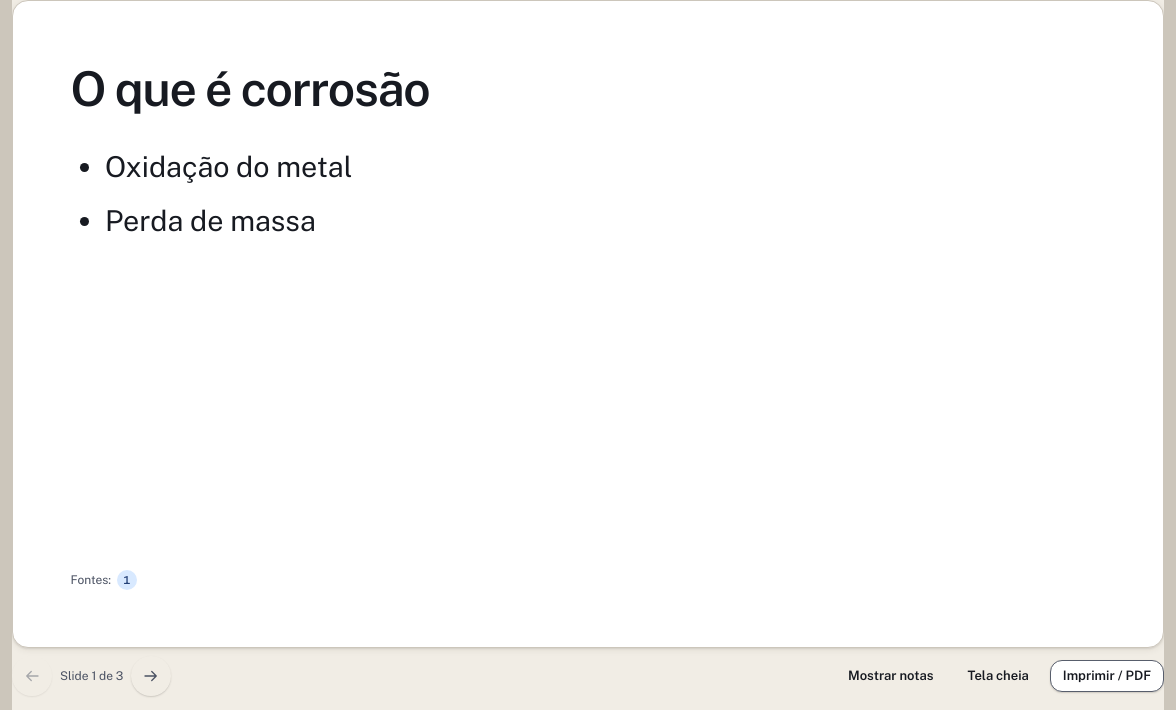
SlidesView (D-98) › moves with the buttons and says where it is in a polite live region
The width and height of the screenshot is (1176, 710).
Expected: the button named "Slide anterior" is disabled, [12,656,52,696]
Click the button named "Próximo slide": (151, 676) [131,656,171,696]
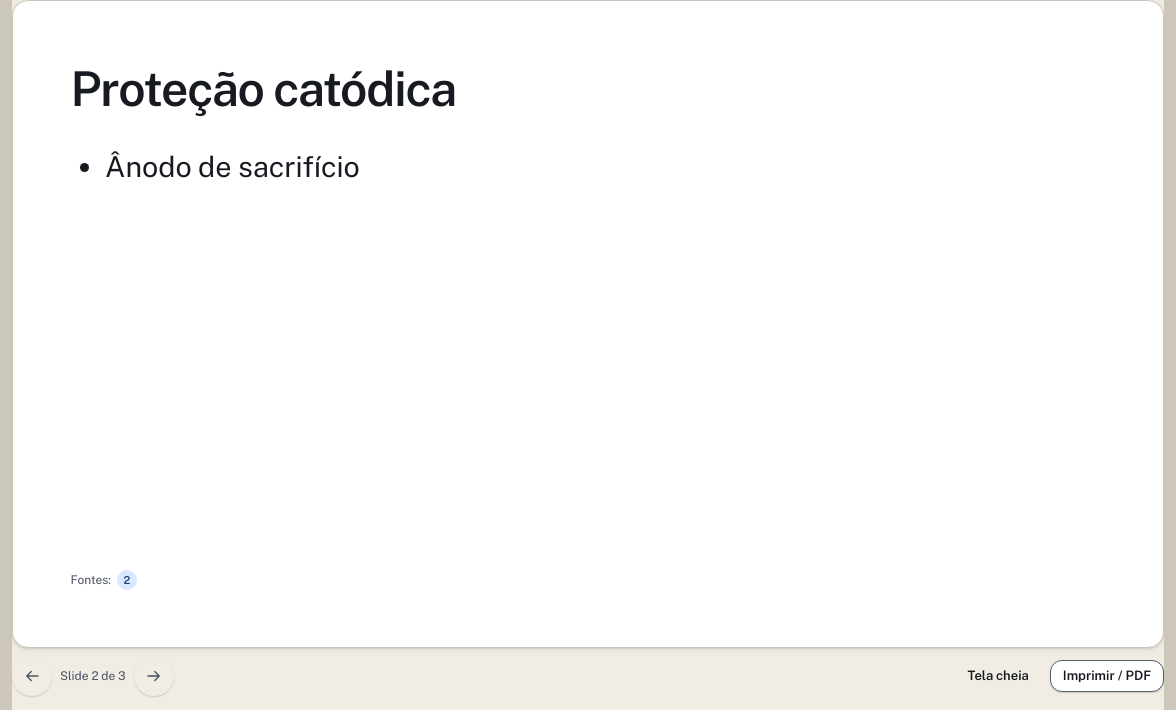
Now the heading reads "Proteção catódica", box [70,60,456,116]
Now the text "Slide 2 de 3" is shown, box [60,668,126,684]
Click the button named "Próximo slide": (154, 676) [134,656,174,696]
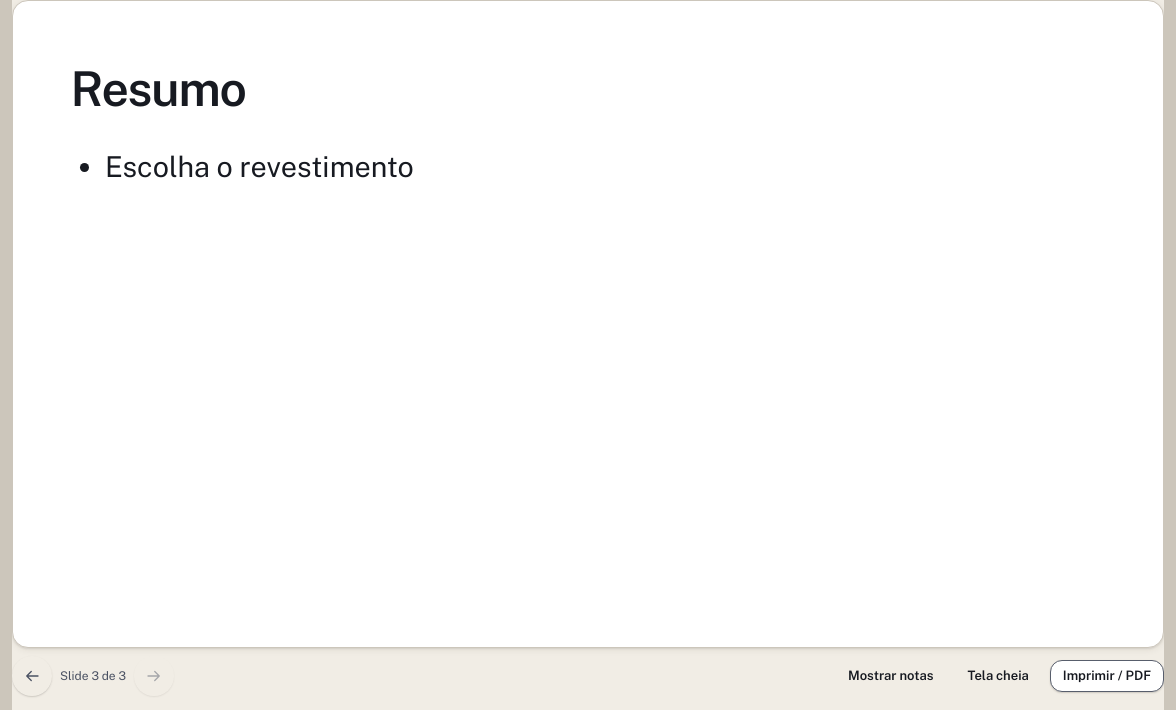
Now the heading reads "Resumo", box [70,60,246,116]
Now the button named "Próximo slide" is disabled, box [134,656,174,696]
Click the button named "Slide anterior": (32, 676) [12,656,52,696]
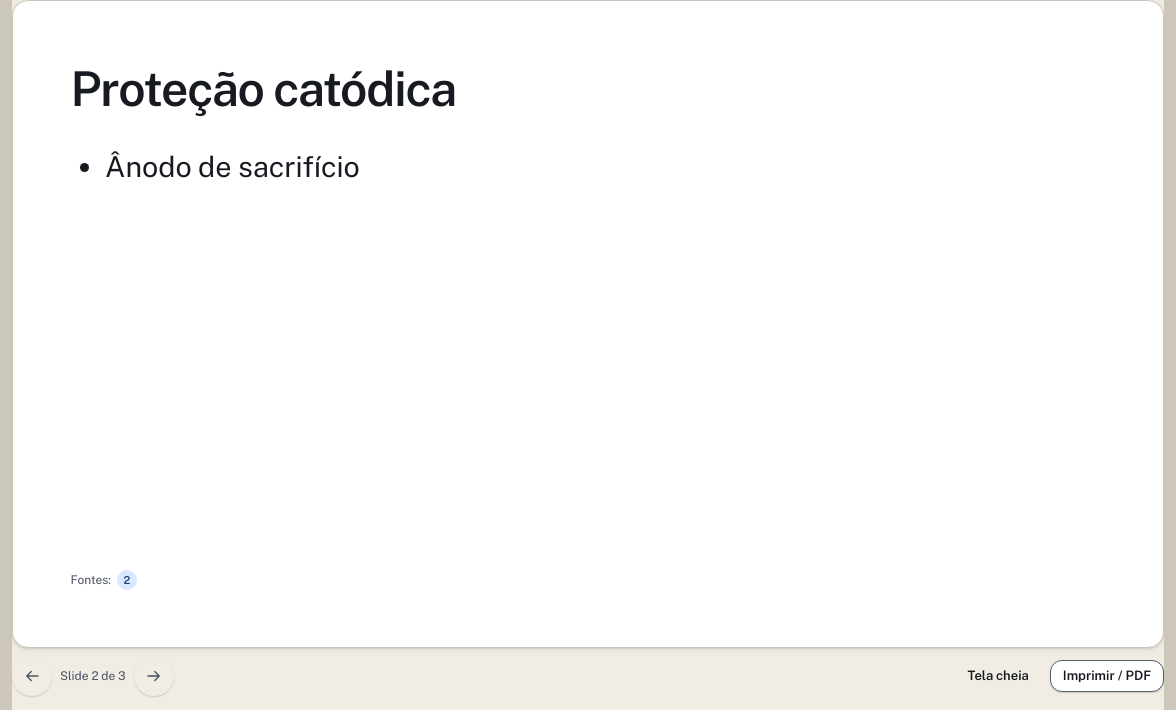
Now the heading reads "Proteção catódica", box [70,60,456,116]
